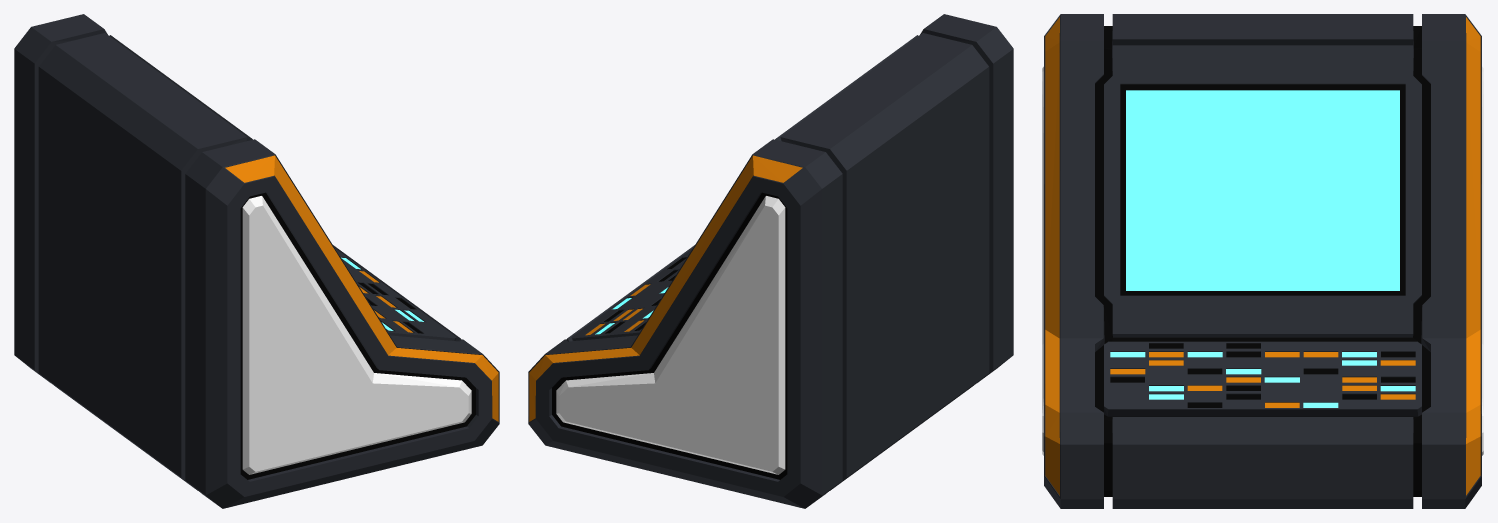
The model's file is SM_Tabletop_Control_Terminal.fbx.
The picture shows the model from 3 angles, left to right: view 1: azimuth 30°, elevation 25°; view 2: azimuth 150°, elevation 25°; view 3: azimuth 270°, elevation 25°; orthographic projection. The views are drawn at different scales.
Parts seen in each view (by area): view 1: SM_Tabletop_Control_Terminal; view 2: SM_Tabletop_Control_Terminal; view 3: SM_Tabletop_Control_Terminal.
Boxes of the visible parts, bbox=[...] form: SM_Tabletop_Control_Terminal: bbox=[14, 14, 499, 508]; SM_Tabletop_Control_Terminal: bbox=[528, 14, 1013, 508]; SM_Tabletop_Control_Terminal: bbox=[1042, 14, 1483, 508].
Bounding box in the file's own units: 18 × 20 × 22.17.
